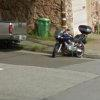Motorcycle: (42, 21, 92, 63)
